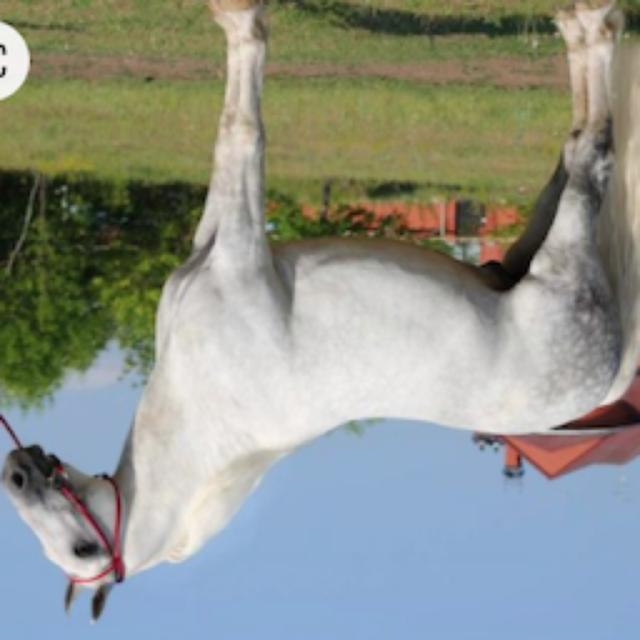Horse: (2, 2, 640, 628)
